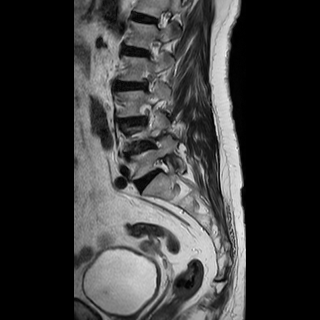LFS0: (141, 32, 167, 66), (151, 152, 174, 181)
